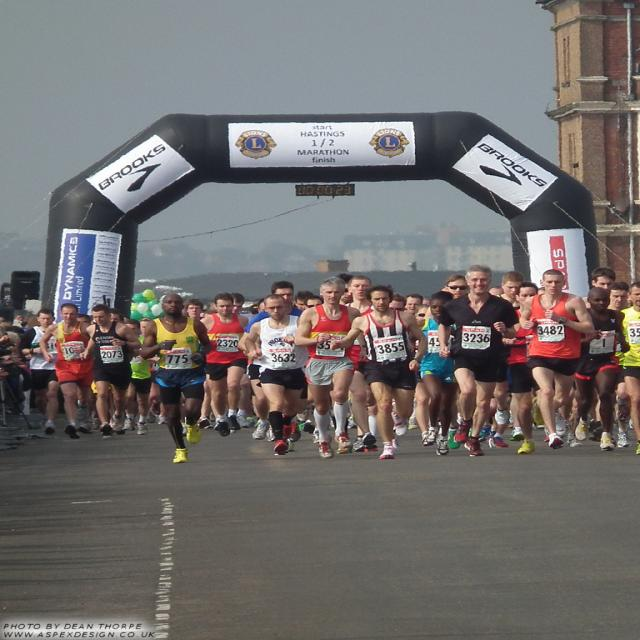Bib: (538, 324, 566, 339), (164, 353, 194, 366), (462, 330, 489, 344), (269, 353, 299, 364), (215, 339, 242, 349), (376, 347, 399, 357), (100, 351, 124, 360), (599, 338, 612, 350)
